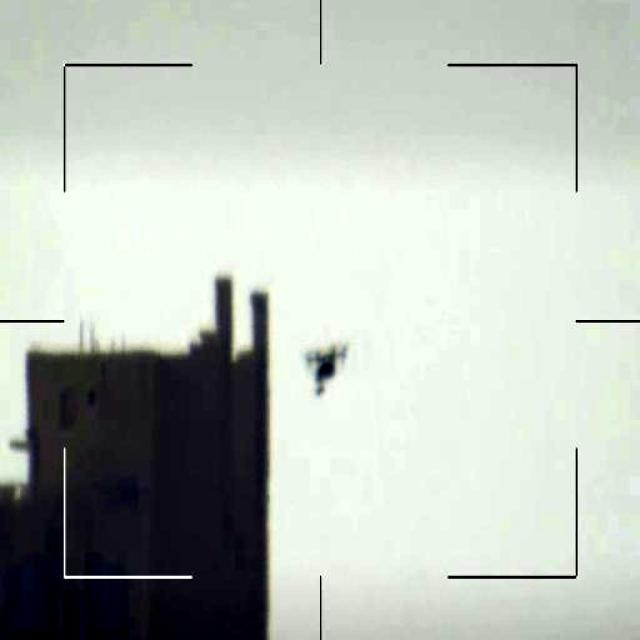bird: (301, 340, 354, 409)
